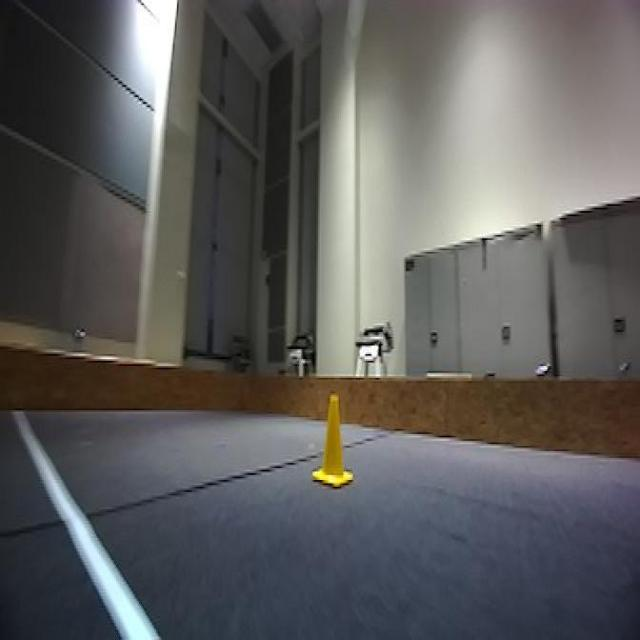frc_cone: (313, 395, 357, 492)
